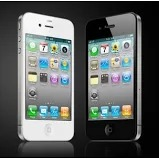iphone: (82, 10, 142, 144), (15, 10, 75, 144)
iphone4: (15, 9, 75, 143), (83, 9, 143, 143)
